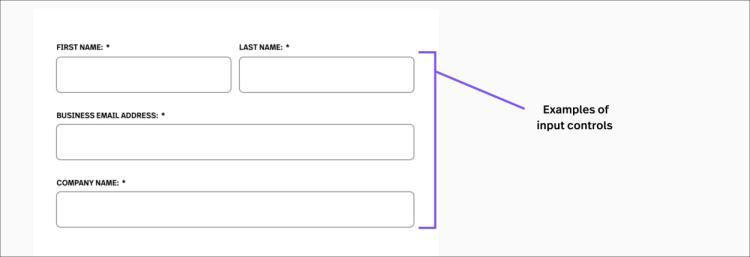input: (58, 192, 415, 228), (58, 126, 416, 160), (239, 57, 416, 95), (57, 57, 232, 94)
label: (56, 110, 169, 122), (54, 39, 114, 55), (56, 177, 132, 189), (240, 41, 296, 54)
